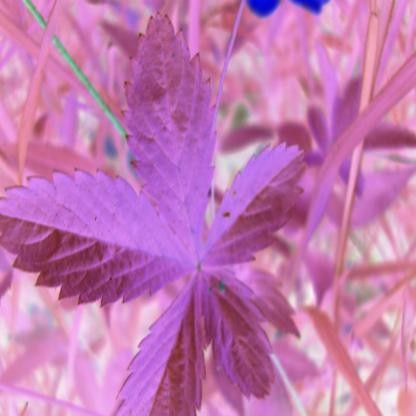strawberry leaf: (1, 169, 203, 312), (129, 1, 226, 258), (204, 129, 310, 277), (120, 270, 211, 415)
